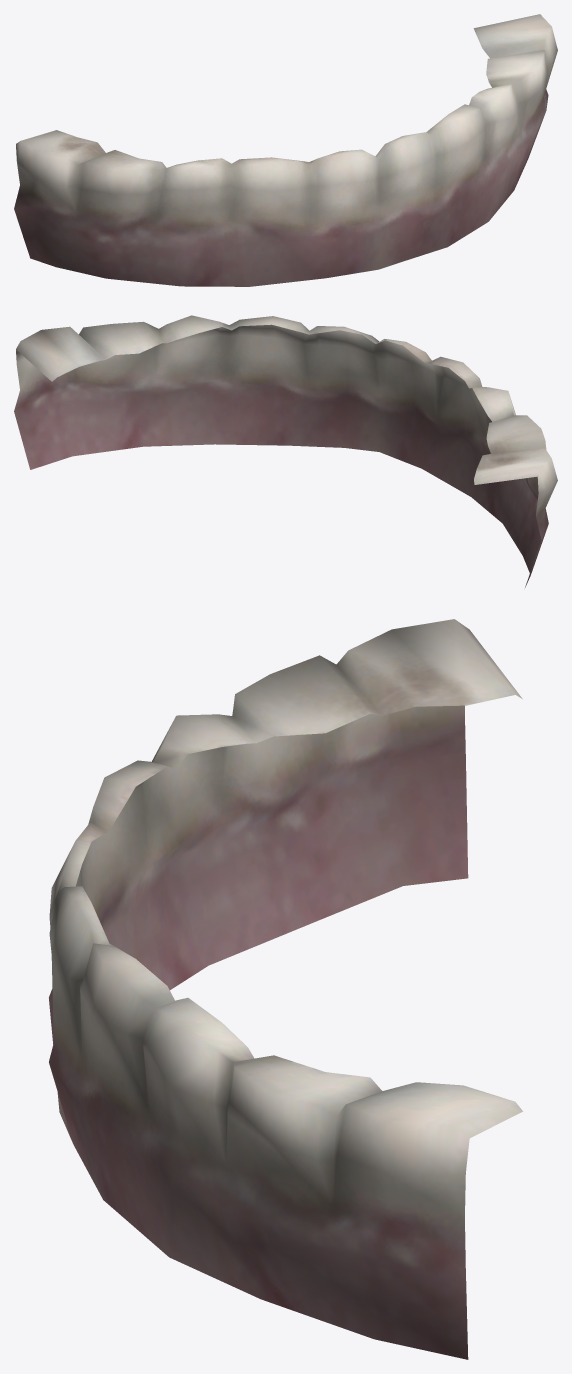
Rendered from LowerTeethShape.obj.
The picture shows the model from 3 angles, top to bottom: view 1: azimuth 30°, elevation 25°; view 2: azimuth 150°, elevation 25°; view 3: azimuth 270°, elevation 25°; orthographic projection. The views are drawn at different scales.
Parts seen in each view (by area): view 1: LowerTeeth Inner_Face_Parts Brad_Skin CharacterRoot; view 2: LowerTeeth Inner_Face_Parts Brad_Skin CharacterRoot; view 3: LowerTeeth Inner_Face_Parts Brad_Skin CharacterRoot.
Part boxes in pixels (x1,y1,x2,y2): LowerTeeth Inner_Face_Parts Brad_Skin CharacterRoot: (14,14,557,286); LowerTeeth Inner_Face_Parts Brad_Skin CharacterRoot: (14,315,557,587); LowerTeeth Inner_Face_Parts Brad_Skin CharacterRoot: (49,619,522,1359).
Size of the model in its own units: 4.99 by 1.15 by 1.95.
1 material, 1 textured.
